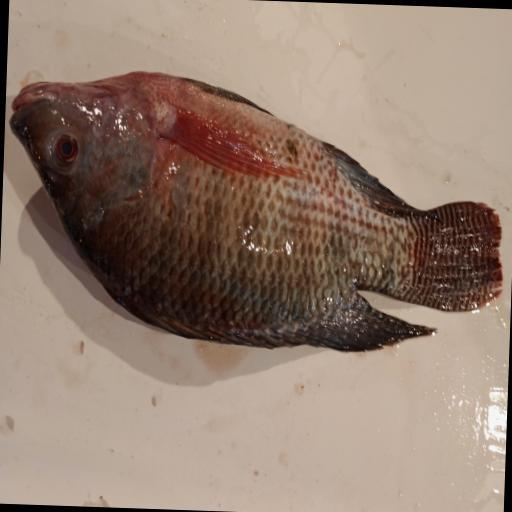Tilapia: (1, 66, 509, 358)
